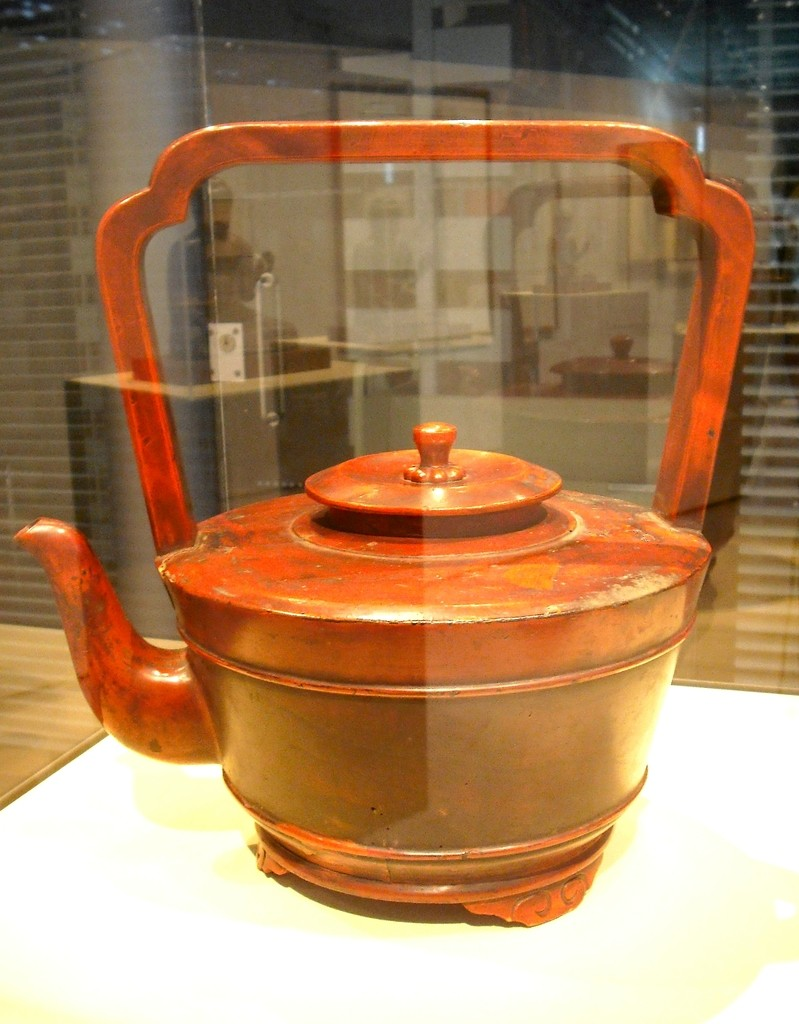teapot: (13, 120, 758, 926)
